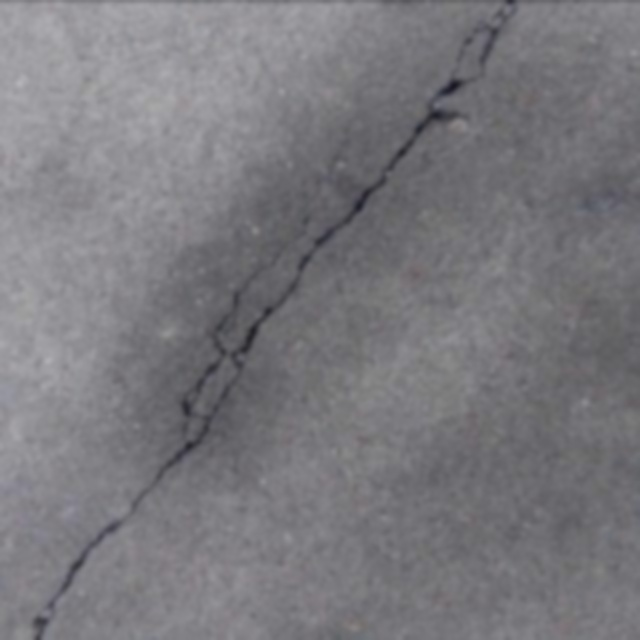SurfaceCrack: (4, 0, 546, 640)
